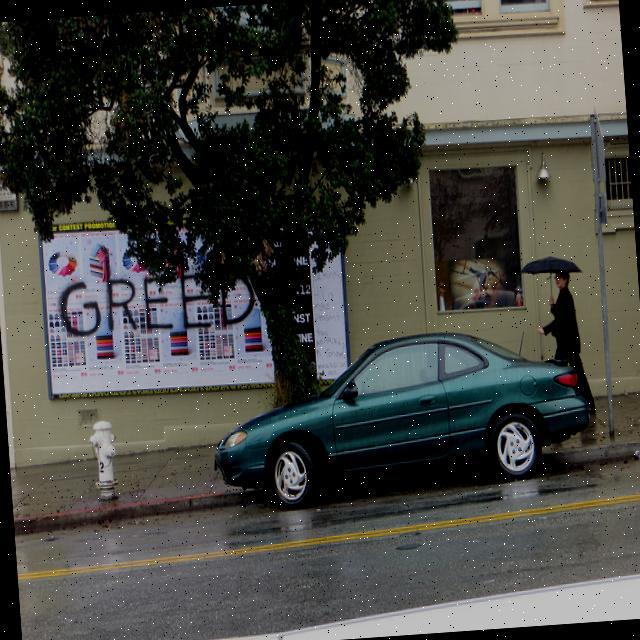fire_hydrant: (86, 420, 120, 502)
